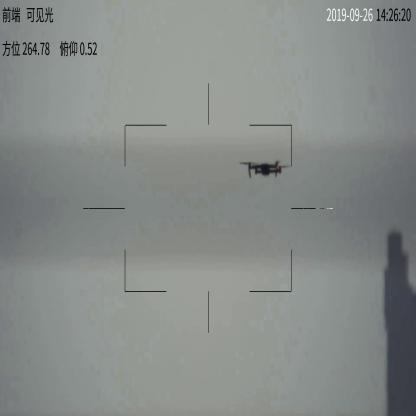uav: (241, 158, 288, 176)
